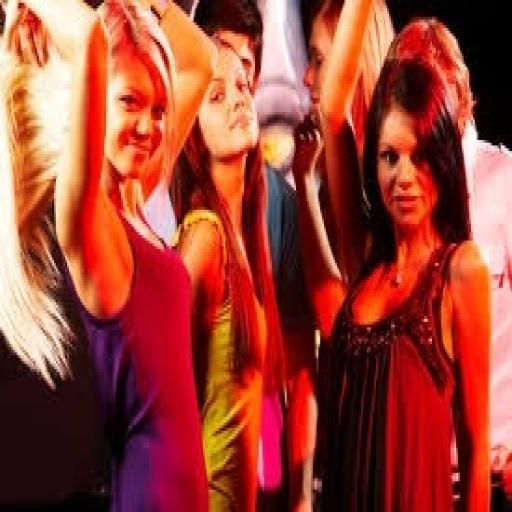dancing: (46, 28, 349, 512), (278, 28, 512, 512)
